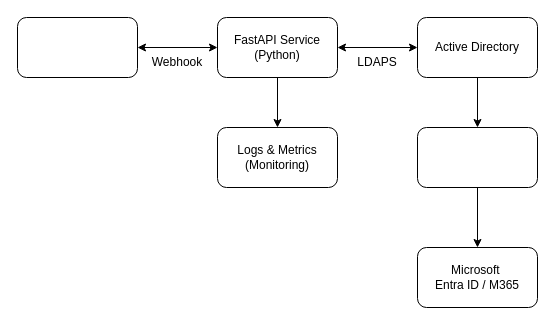
This 555x325 diagram has some shape labels left out. Each missing label, with the centre of its shape:
Cloud Sync: the point at 477,157
Snipe-IT: the point at 77,47
